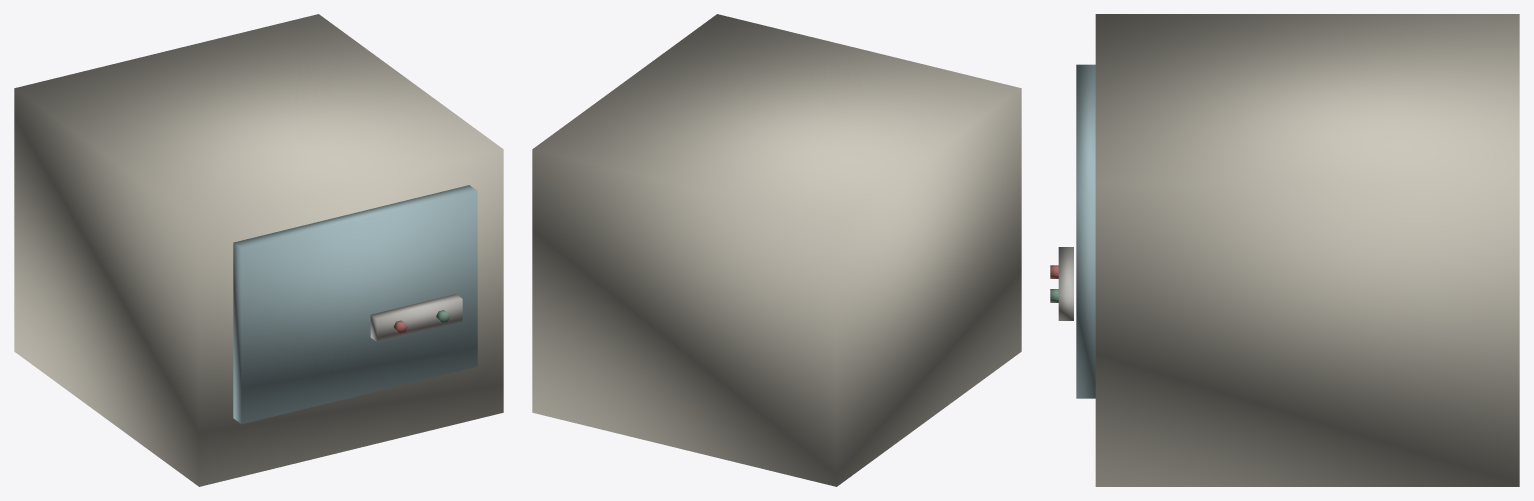
Rendered from crt_monitor__deep.glb.
The picture shows the model from 3 angles, left to right: view 1: azimuth 30°, elevation 25°; view 2: azimuth 150°, elevation 25°; view 3: azimuth 270°, elevation 25°; orthographic projection. The views are drawn at different scales.
Parts seen in each view (by area): view 1: world; view 2: world; view 3: world.
Boxes of the visible parts, box(x1,y1,x2,y2) form: world: box(14, 14, 503, 486); world: box(532, 14, 1021, 486); world: box(1050, 14, 1519, 486).
Size of the model in its own units: 0.58 by 0.52 by 0.6753.
